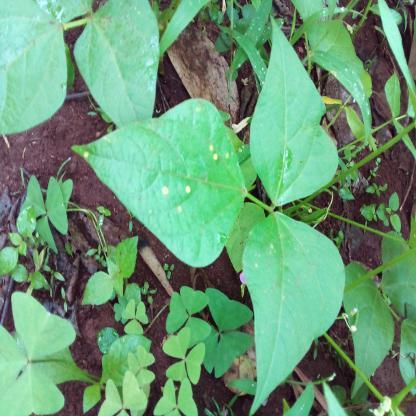Beans_Rust: (67, 96, 246, 268), (242, 214, 346, 412)
